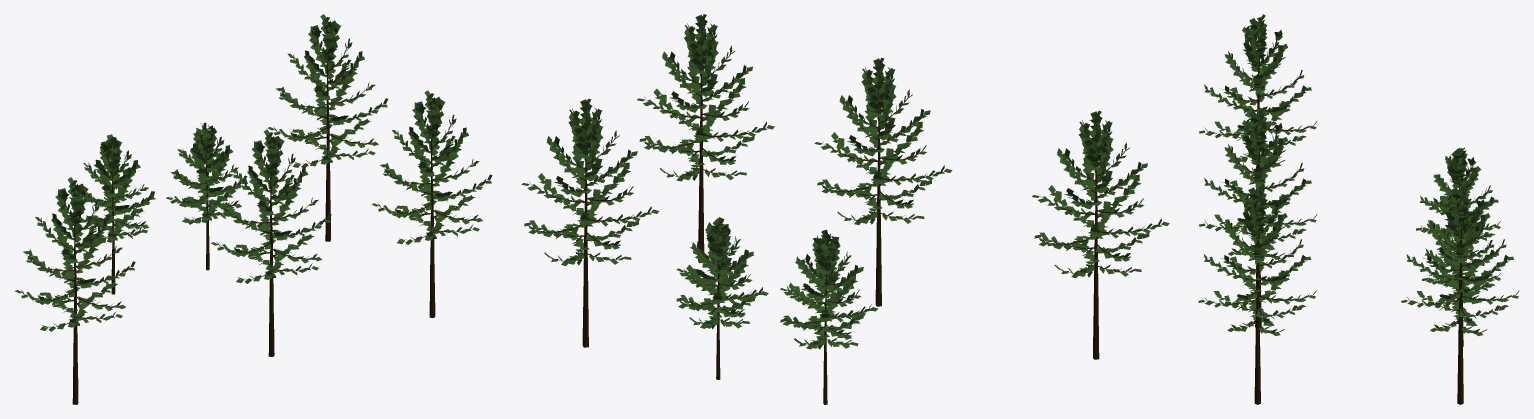
The model's file is manyTallTrees.fbx.
3 renders of one model, left to right at view 1: azimuth 30°, elevation 25°; view 2: azimuth 150°, elevation 25°; view 3: azimuth 270°, elevation 25°, orthographic. The views are drawn at different scales.
Parts seen in each view (by area): view 1: leaves.003, leaves.004, leaves, leaves.005, leaves.002, leaves.001, tree.003, tree.005, tree, tree.004, tree.002, tree.001; view 2: leaves, leaves.003, leaves.004, leaves.005, leaves.002, leaves.001, tree.004, tree.003, tree, tree.005, tree.002; view 3: leaves.005, leaves, leaves.004, leaves.003, leaves.002, leaves.001, tree.005, tree, tree.004, tree.003.
Part boxes in pixels (x1,y1,x2,y2): leaves.003: [210, 129, 331, 283]; leaves.004: [14, 177, 135, 331]; leaves: [267, 14, 388, 167]; leaves.005: [371, 90, 492, 244]; leaves.002: [81, 134, 155, 242]; leaves.001: [166, 122, 247, 224]; tree.003: [222, 139, 321, 356]; tree.005: [382, 105, 486, 317]; tree: [278, 24, 377, 241]; tree.004: [26, 187, 124, 404]; tree.002: [88, 154, 145, 294]; tree.001: [181, 133, 238, 270]; leaves: [521, 98, 659, 265]; leaves.003: [814, 57, 952, 224]; leaves.004: [1032, 111, 1169, 277]; leaves.005: [637, 14, 774, 181]; leaves.002: [780, 229, 878, 349]; leaves.001: [676, 217, 768, 329]; tree.004: [1043, 117, 1156, 359]; tree.003: [825, 70, 939, 306]; tree: [532, 104, 646, 347]; tree.005: [648, 26, 765, 262]; tree.002: [791, 242, 864, 404]; leaves.005: [1198, 183, 1316, 335]; leaves: [1401, 183, 1519, 335]; leaves.004: [1199, 14, 1317, 166]; leaves.003: [1199, 107, 1317, 259]; leaves.002: [1416, 147, 1500, 255]; leaves.001: [1422, 205, 1500, 304]; tree.005: [1208, 194, 1306, 404]; tree: [1411, 193, 1511, 404]; tree.004: [1207, 24, 1310, 230]; tree.003: [1207, 117, 1309, 327].
Size of the model in its own units: 3019 by 1407 by 1878.
